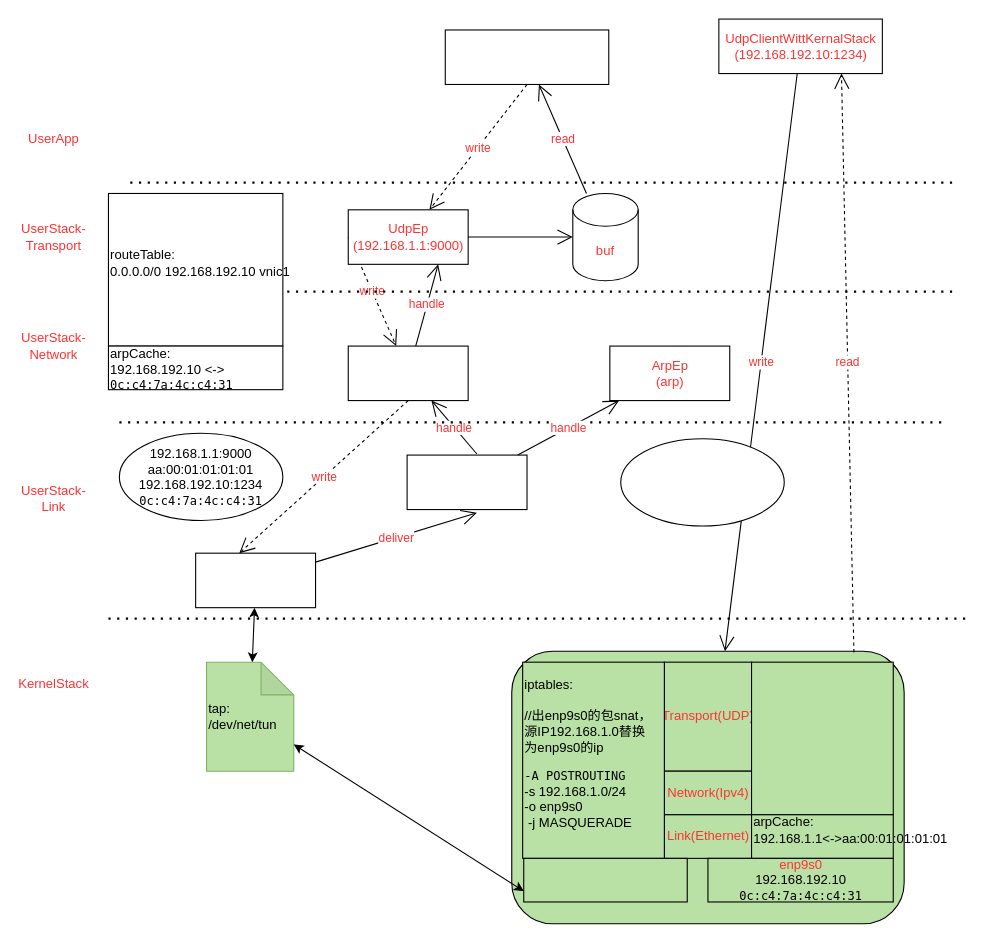
The diagram is 991 pixels wide and 943 high, and some of its shapes have lost their labels. The centre of each missing label's shape, as x and y in pixels:
192.168.192.10:1234 0c:c4:7a:4c:c4:31 192.168.1.1:9000 aa:00:01:01:01:01: [702,482]
FdbasedEp: [255,580]
Ipv4Ep (192.168.1.1): [407,373]
routeTable: 192.168.1.0/24 "" tap: [821,738]
tap 192.168.1.1 aa:00:01:01:01:01: [605,879]
UdpServerWithUserStack: [526,56]
VNIC1: [466,482]
